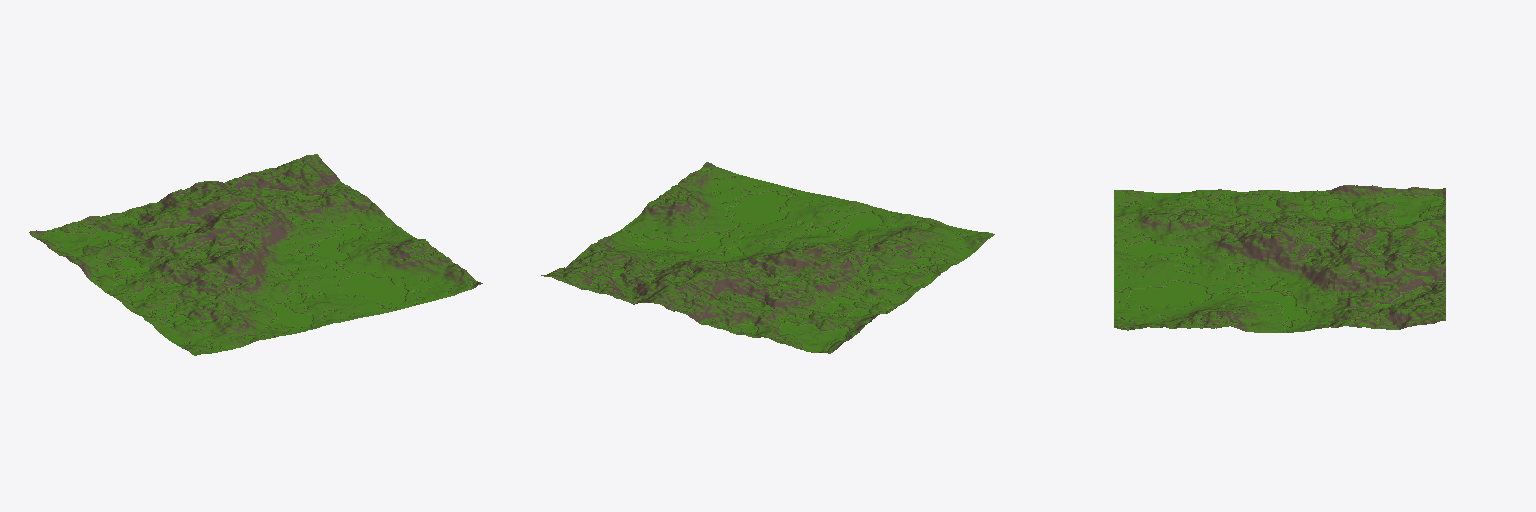
3 views of the same model, side by side, from view 1: azimuth 30°, elevation 25°; view 2: azimuth 150°, elevation 25°; view 3: azimuth 270°, elevation 25° (orthographic).
Parts seen in each view (by area): view 1: Object.1; view 2: Object.1; view 3: Object.1.
Part boxes in pixels (left/top/right/bottom): Object.1: left=29, top=154, right=482, bottom=355; Object.1: left=541, top=162, right=994, bottom=353; Object.1: left=1114, top=185, right=1445, bottom=332.
Bounding box in the file's own units: 2000 × 117 × 2000.
Materials: 1 (1 with a texture image).